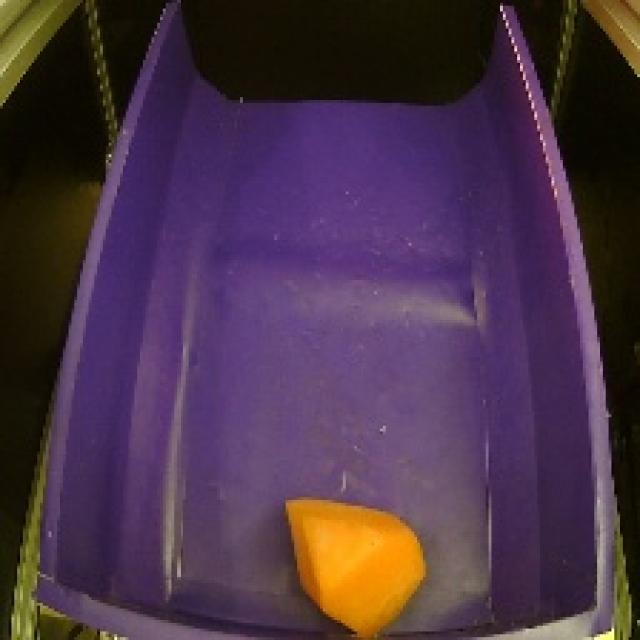carrots: (263, 477, 437, 640)
